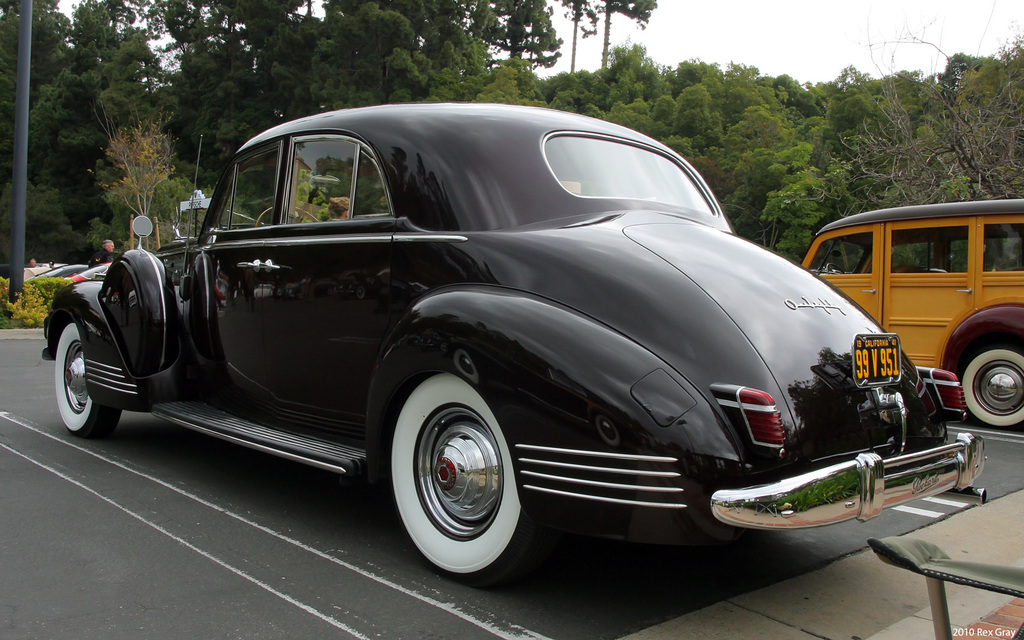Car: (42, 96, 987, 590), (797, 193, 1023, 430)
